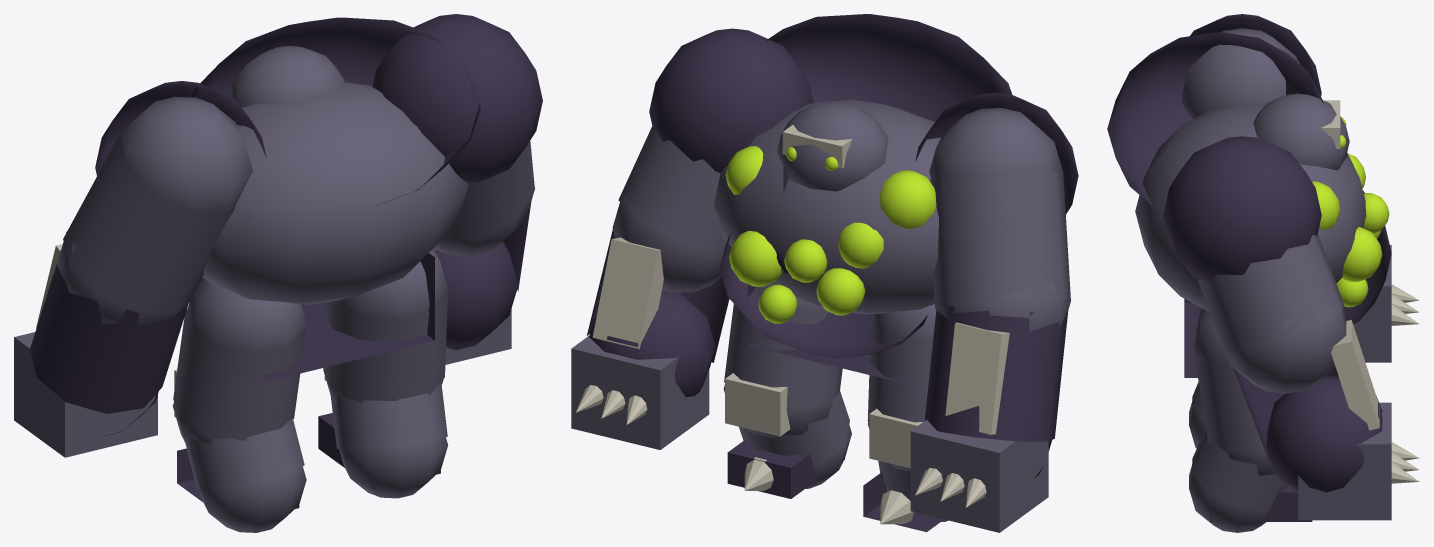
The model's file is Boss_Zombie_Tank.obj.
3 renders of one model, left to right at view 1: azimuth 30°, elevation 25°; view 2: azimuth 150°, elevation 25°; view 3: azimuth 270°, elevation 25°, orthographic. The views are drawn at different scales.
Visible parts, largest first — view 1: Boss_Zombie_Tank; view 2: Boss_Zombie_Tank; view 3: Boss_Zombie_Tank.
Part boxes in pixels (x1=…): Boss_Zombie_Tank: x1=14, y1=14, x2=542, y2=532; Boss_Zombie_Tank: x1=571, y1=14, x2=1078, y2=532; Boss_Zombie_Tank: x1=1107, y1=14, x2=1419, y2=532.
Size of the model in its own units: 2.14 by 2.1 by 1.34.
